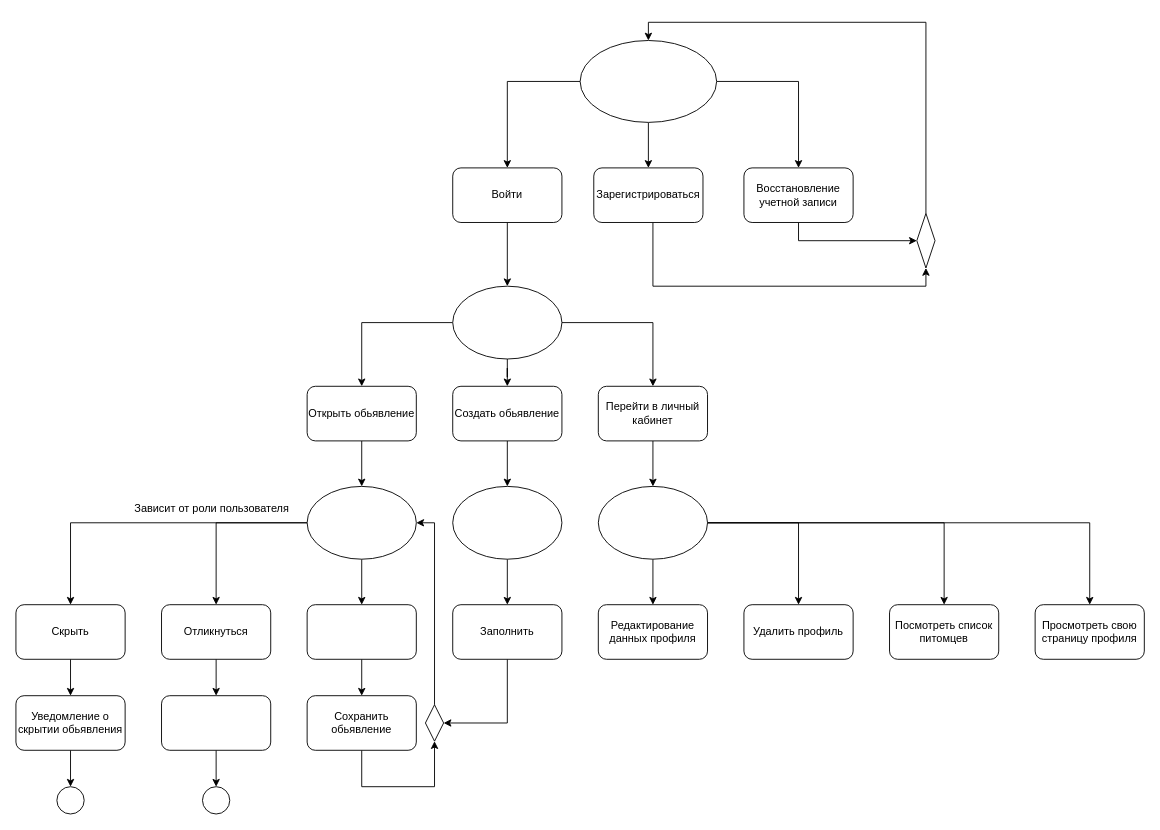
This 1160x830 diagram has some shape labels left out. The centre of each missing label's shape, as x and y in pixels:
"Редактировать" belongs at (361,631).
"Страница входа" belongs at (648,81).
"Страница личного кабинета" belongs at (652,522).
"Страница обьявления" belongs at (361,522).
"Страница создания обьявления" belongs at (507,522).
"Страница списка обьявлений" belongs at (507,322).
"Уведомление о отлике по обьявлению" belongs at (216,722).
